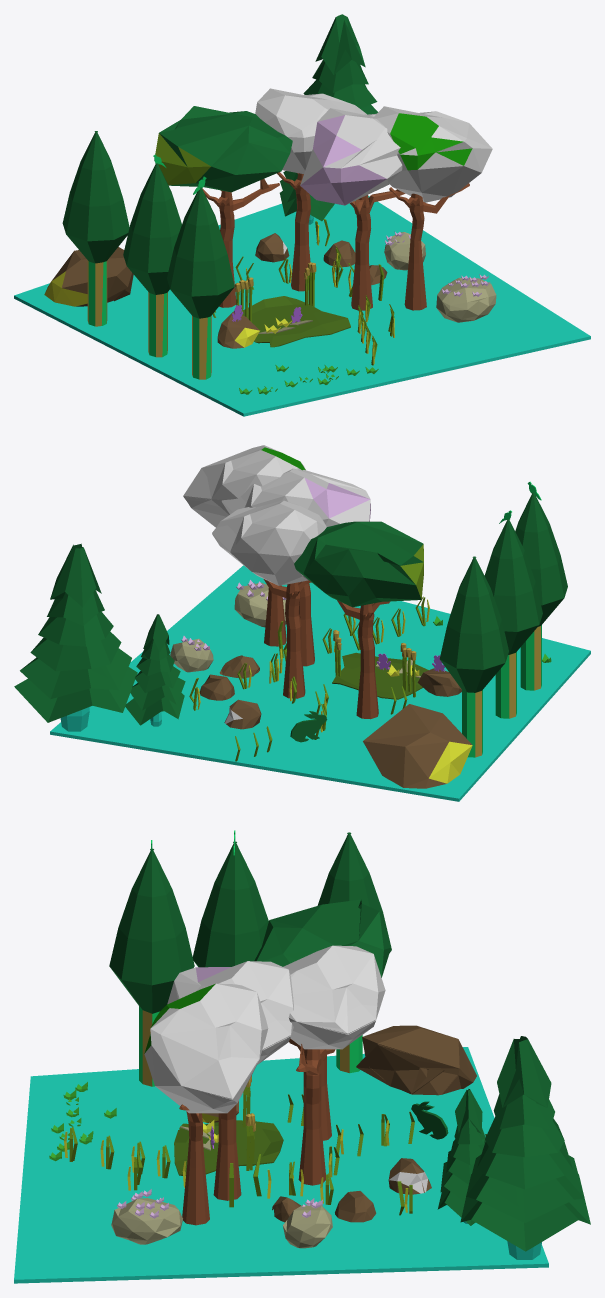
Rendered from BOSCHETTO_PINI-primavera.fbx.
3 renders of one model, top to bottom at view 1: azimuth 30°, elevation 25°; view 2: azimuth 150°, elevation 25°; view 3: azimuth 270°, elevation 25°, orthographic. The views are drawn at different scales.
Visible parts, largest first — view 1: Cilindro.007; view 2: Cilindro.007; view 3: Cilindro.007.
Boxes of the visible parts, bbox=[...] form: Cilindro.007: bbox=[14, 14, 590, 416]; Cilindro.007: bbox=[14, 445, 590, 801]; Cilindro.007: bbox=[14, 830, 590, 1283].
Bounding box in the file's own units: 2376 × 1171 × 2453.
